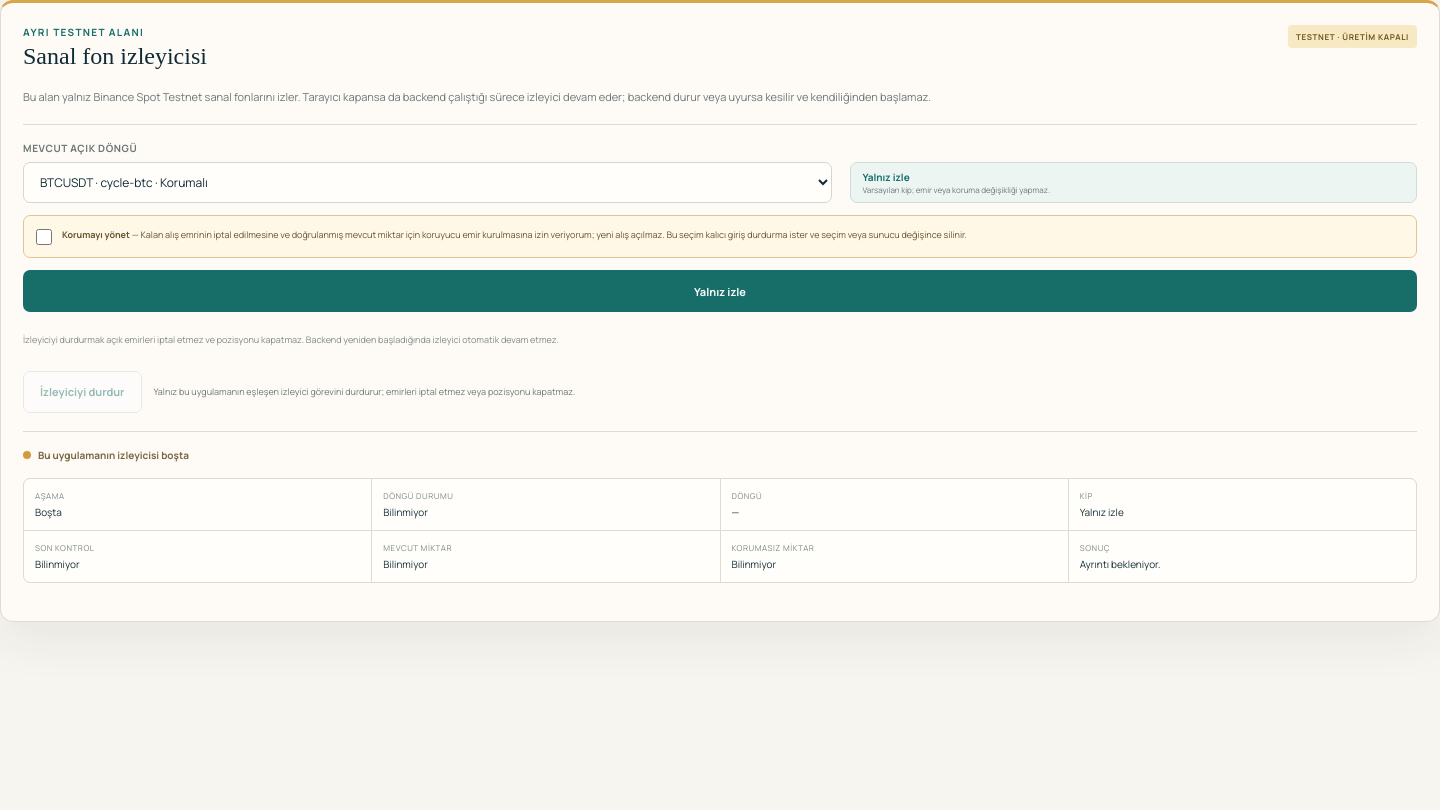
Test case: TestnetPanel › gecikmiş eski sorgu start sonucunu geri alamaz
The image size is (1440, 810).
Step 1. Click the button "Yalnız izle" → click(720, 291), box [23,270,1417,312]
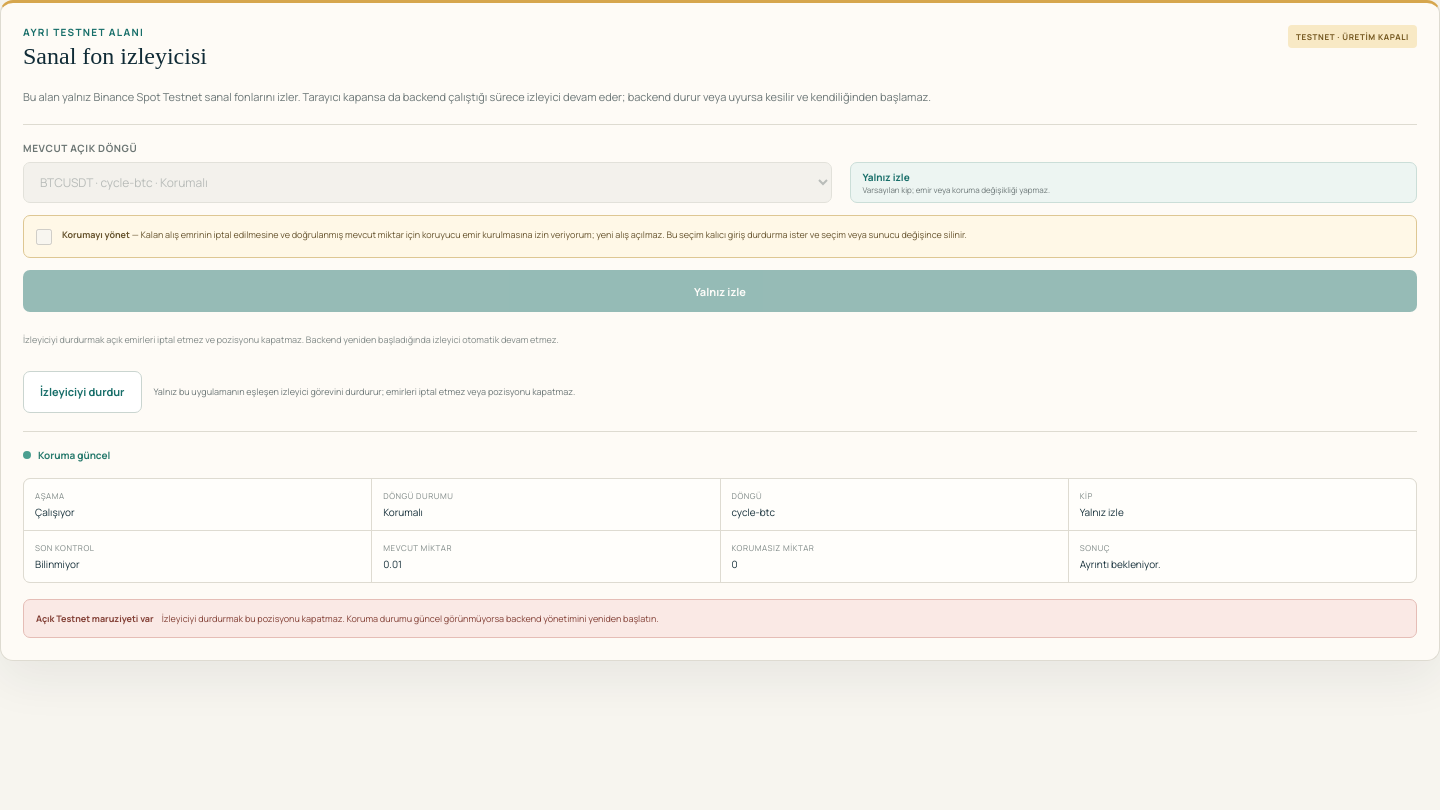
Expected: the text "Çalışıyor" is shown, [35,504,75,518]
